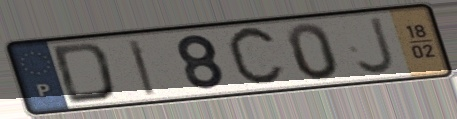0: (284, 20, 342, 83)
8: (175, 33, 228, 92)
C: (224, 22, 289, 91)
D: (49, 40, 119, 106)
I: (125, 37, 159, 98)
J: (353, 14, 399, 77)
